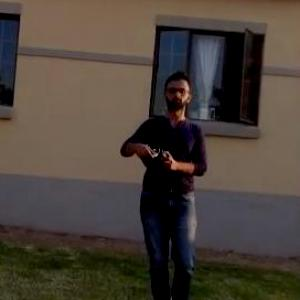follow: (113, 62, 213, 299)
